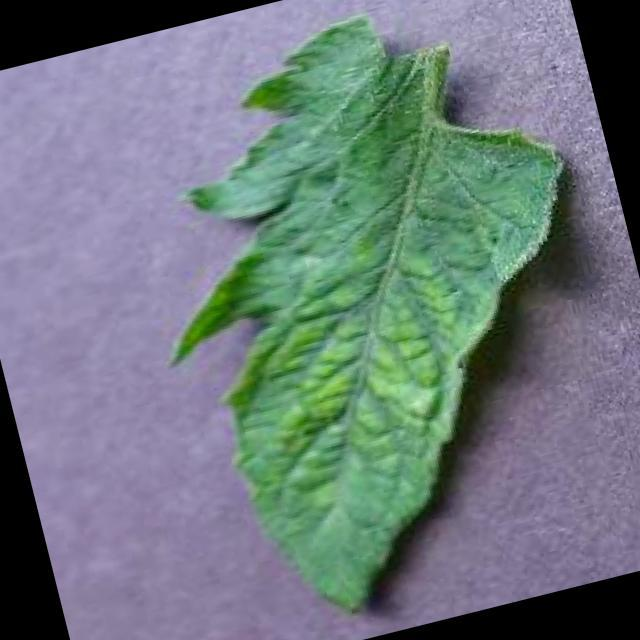Tomato mosaic virus leaf: (96, 0, 640, 640)
